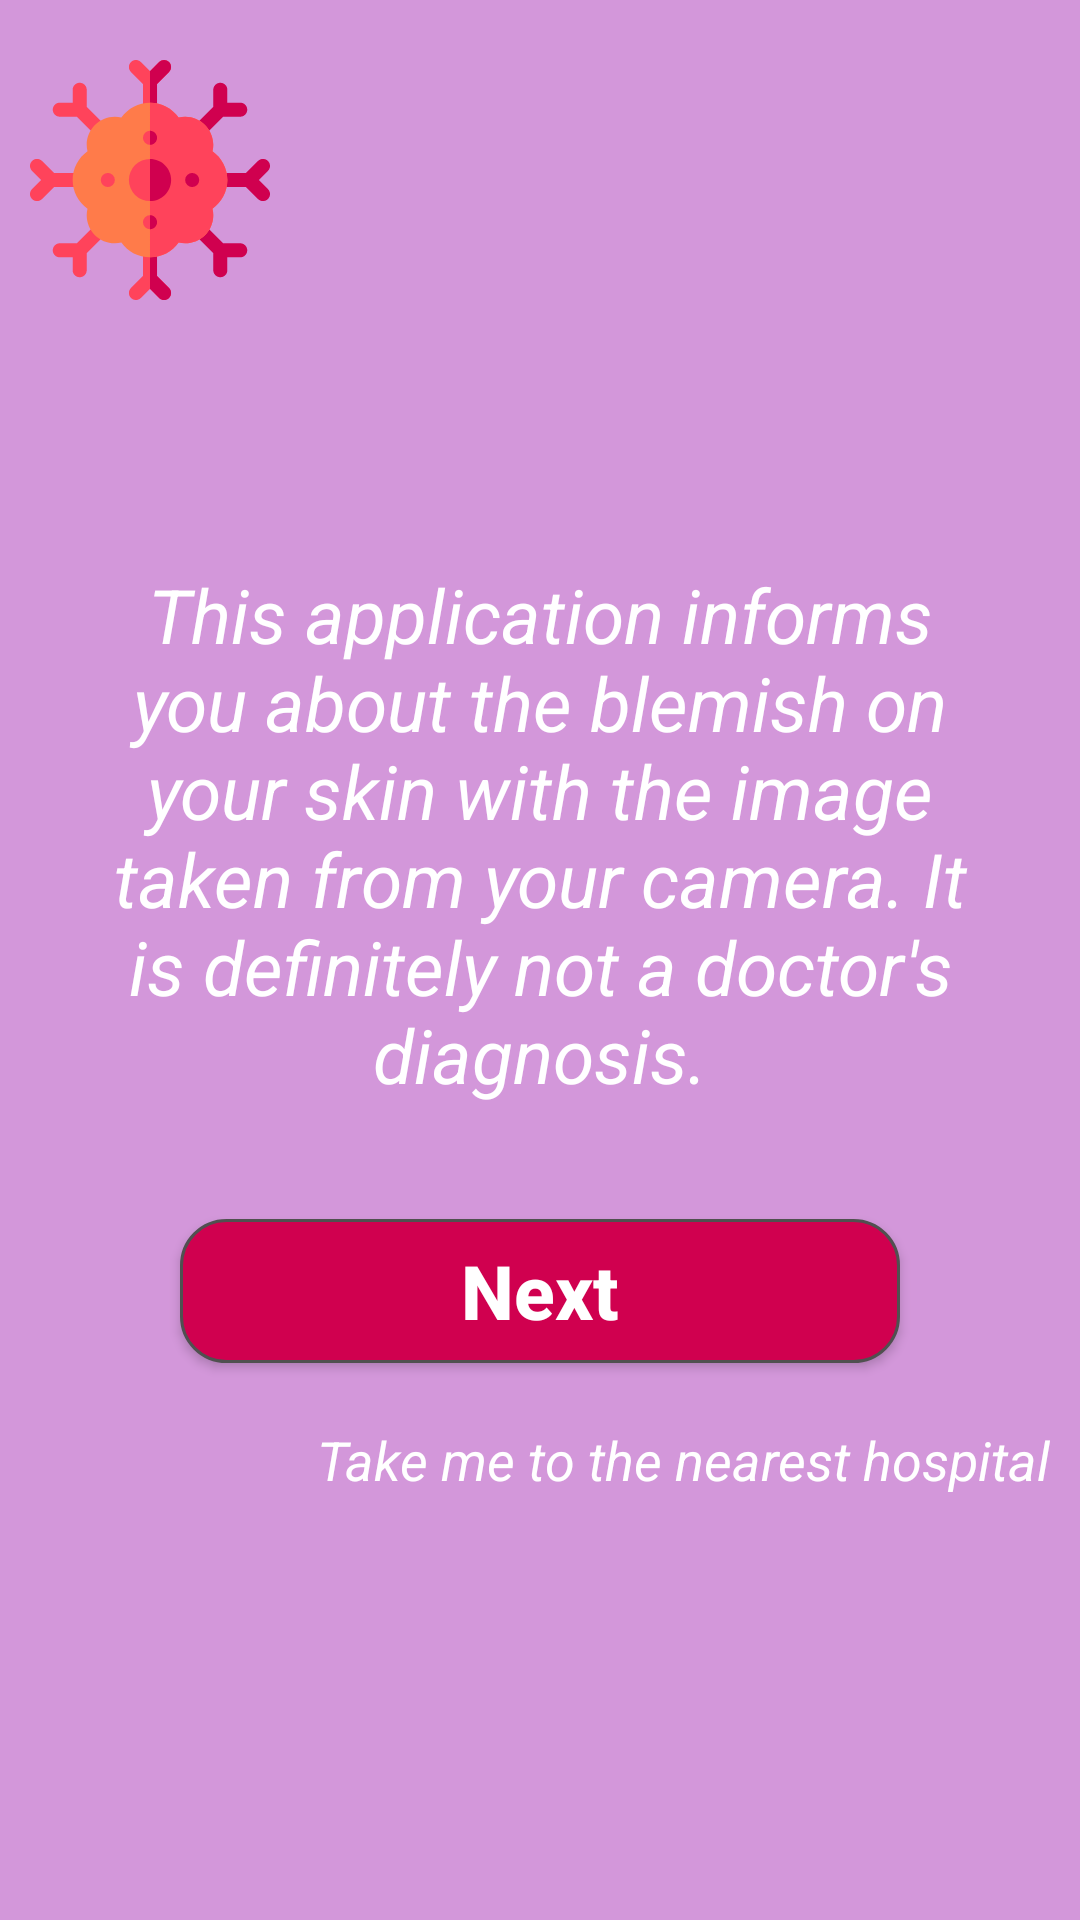

Icons on this 1080×1920 Android screen, each with its box as [x1,y1,x2,y2]:
cancer: [30,60,270,300]
